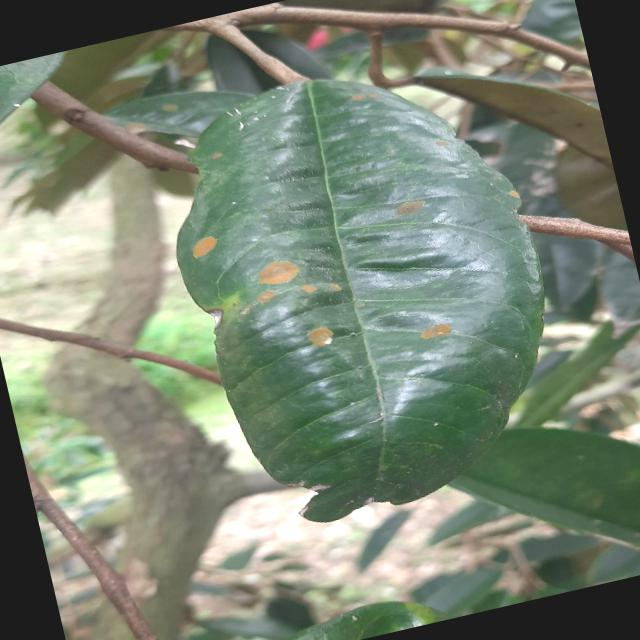Algal Leaf Spot: (147, 26, 598, 549)
